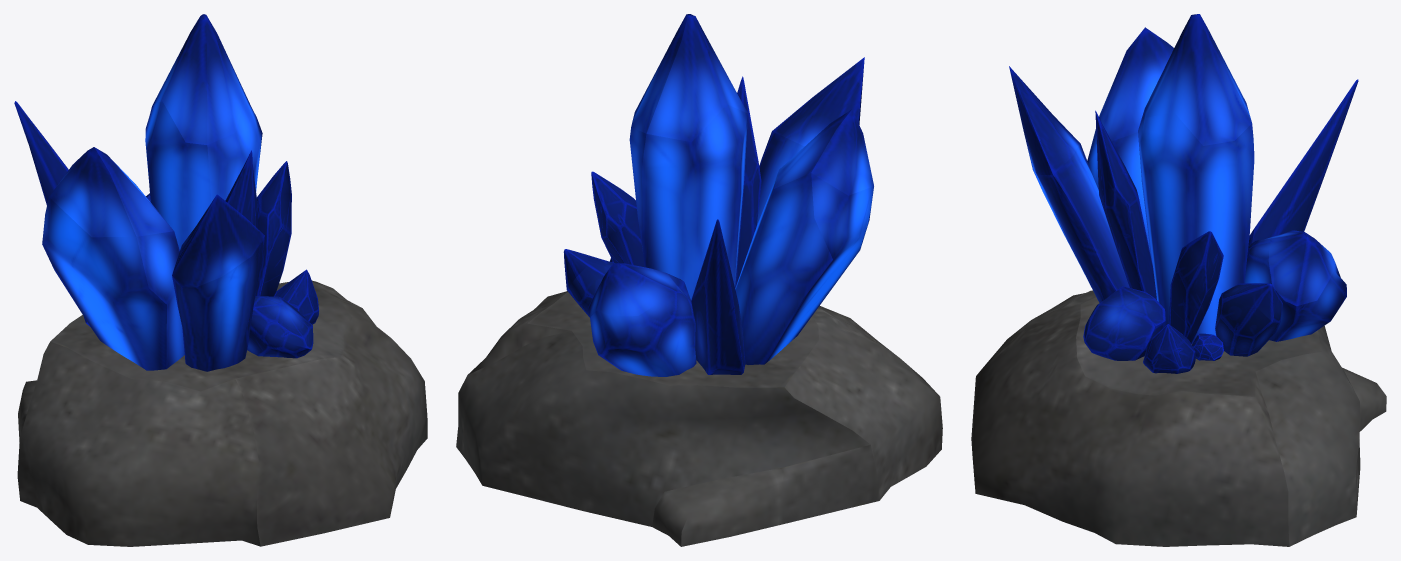
Rendered from crystal.glb.
3 renders of one model, left to right at view 1: azimuth 30°, elevation 25°; view 2: azimuth 150°, elevation 25°; view 3: azimuth 270°, elevation 25°, orthographic.
Parts seen in each view (by area): view 1: Crystals_SM_M_Crystals_0.003, Crystals_SM_M_Crystals_0.010, Crystals_SM_M_Crystals_0.011, Crystals_SM_M_Crystals_0.002, Crystals_SM, Crystals_SM_M_Crystals_0.006, Crystals_SM_M_Crystals_0.008, Crystals_SM_M_Crystals_0.005, Crystals_SM_M_Crystals_0.001; view 2: Crystals_SM_M_Crystals_0.003, Crystals_SM_M_Crystals_0.011, Crystals_SM_M_Crystals_0.010, Crystals_SM_M_Crystals_0.007, Crystals_SM_M_Crystals_0.008, Crystals_SM_M_Crystals_0.002, Crystals_SM, Crystals_SM_M_Crystals_0.001, Crystals_SM_M_Crystals_0.004; view 3: Crystals_SM_M_Crystals_0.003, Crystals_SM_M_Crystals_0.011, Crystals_SM_M_Crystals_0.002, Crystals_SM_M_Crystals_0.007, Crystals_SM_M_Crystals_0.010, Crystals_SM_M_Crystals_0.001, Crystals_SM_M_Crystals_0.008, Crystals_SM_M_Crystals_0.006, Crystals_SM_M_Crystals_0.004, Crystals_SM, Crystals_SM_M_Crystals_0.005, Crystals_SM_M_Crystals_0.009.
Boxes of the visible parts, bbox=[...] form: Crystals_SM_M_Crystals_0.003: bbox=[17, 280, 427, 546]; Crystals_SM_M_Crystals_0.010: bbox=[42, 147, 184, 370]; Crystals_SM_M_Crystals_0.011: bbox=[145, 14, 262, 250]; Crystals_SM_M_Crystals_0.002: bbox=[172, 194, 264, 371]; Crystals_SM: bbox=[255, 161, 291, 296]; Crystals_SM_M_Crystals_0.006: bbox=[247, 296, 313, 358]; Crystals_SM_M_Crystals_0.008: bbox=[14, 101, 90, 326]; Crystals_SM_M_Crystals_0.005: bbox=[273, 269, 318, 324]; Crystals_SM_M_Crystals_0.001: bbox=[225, 150, 257, 228]; Crystals_SM_M_Crystals_0.003: bbox=[456, 291, 942, 546]; Crystals_SM_M_Crystals_0.011: bbox=[629, 14, 747, 300]; Crystals_SM_M_Crystals_0.010: bbox=[735, 109, 873, 364]; Crystals_SM_M_Crystals_0.007: bbox=[588, 263, 696, 376]; Crystals_SM_M_Crystals_0.008: bbox=[691, 219, 745, 374]; Crystals_SM_M_Crystals_0.002: bbox=[757, 57, 864, 224]; Crystals_SM: bbox=[591, 171, 644, 267]; Crystals_SM_M_Crystals_0.001: bbox=[735, 76, 761, 287]; Crystals_SM_M_Crystals_0.004: bbox=[563, 249, 614, 317]; Crystals_SM_M_Crystals_0.003: bbox=[971, 290, 1386, 546]; Crystals_SM_M_Crystals_0.011: bbox=[1138, 14, 1254, 343]; Crystals_SM_M_Crystals_0.002: bbox=[1009, 66, 1129, 302]; Crystals_SM_M_Crystals_0.007: bbox=[1244, 230, 1346, 341]; Crystals_SM_M_Crystals_0.010: bbox=[1087, 27, 1173, 255]; Crystals_SM_M_Crystals_0.001: bbox=[1095, 110, 1156, 299]; Crystals_SM_M_Crystals_0.008: bbox=[1248, 79, 1358, 245]; Crystals_SM_M_Crystals_0.006: bbox=[1083, 286, 1165, 360]; Crystals_SM_M_Crystals_0.004: bbox=[1215, 283, 1282, 356]; Crystals_SM: bbox=[1169, 231, 1223, 343]; Crystals_SM_M_Crystals_0.005: bbox=[1143, 324, 1195, 373]; Crystals_SM_M_Crystals_0.009: bbox=[1192, 333, 1224, 360].
Size of the model in its own units: 0.3579 by 0.4051 by 0.3426.
1 material, 1 textured.
